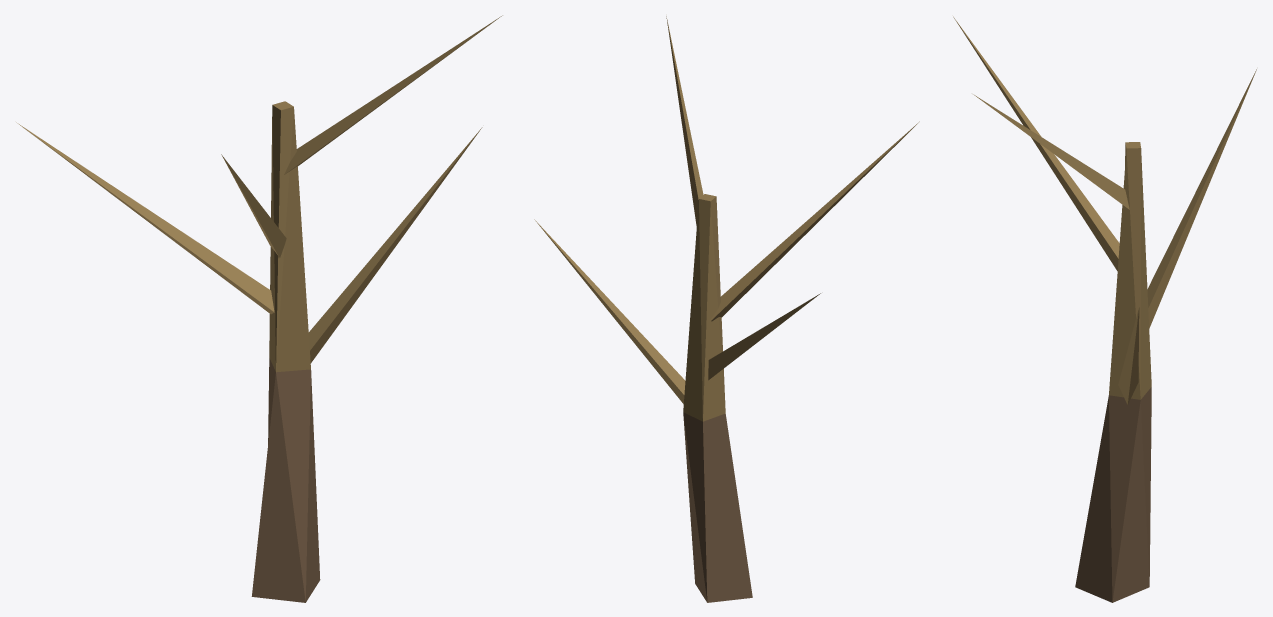
File: tree_desert_dead_lod2.glb
3 renders of one model, left to right at view 1: azimuth 30°, elevation 25°; view 2: azimuth 150°, elevation 25°; view 3: azimuth 270°, elevation 25°, orthographic. The views are drawn at different scales.
Visible parts, largest first — view 1: tree_desert_dead_lod2; view 2: tree_desert_dead_lod2; view 3: tree_desert_dead_lod2.
Boxes of the visible parts, bbox=[...] form: tree_desert_dead_lod2: bbox=[16, 15, 502, 602]; tree_desert_dead_lod2: bbox=[534, 16, 919, 602]; tree_desert_dead_lod2: bbox=[953, 16, 1256, 602].
Size of what is drawn, in the model's own units: 2.97 by 4.15 by 2.06.
Materials: 2 (2 with a texture image).
